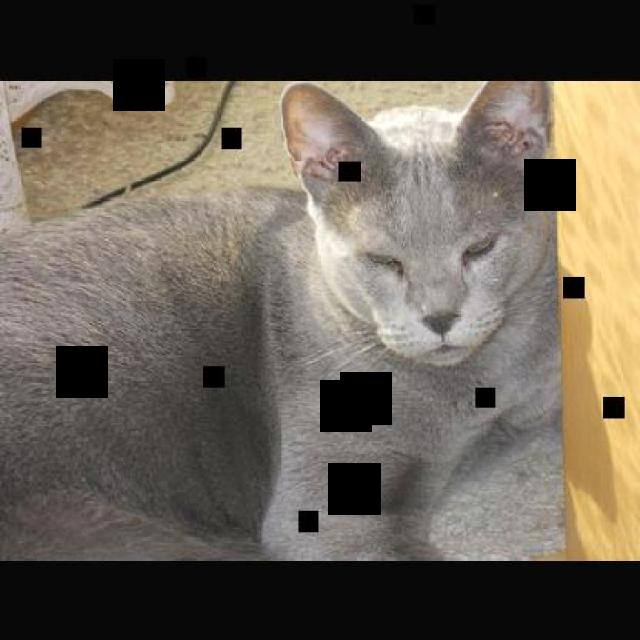unauthorized: (0, 77, 565, 560)
